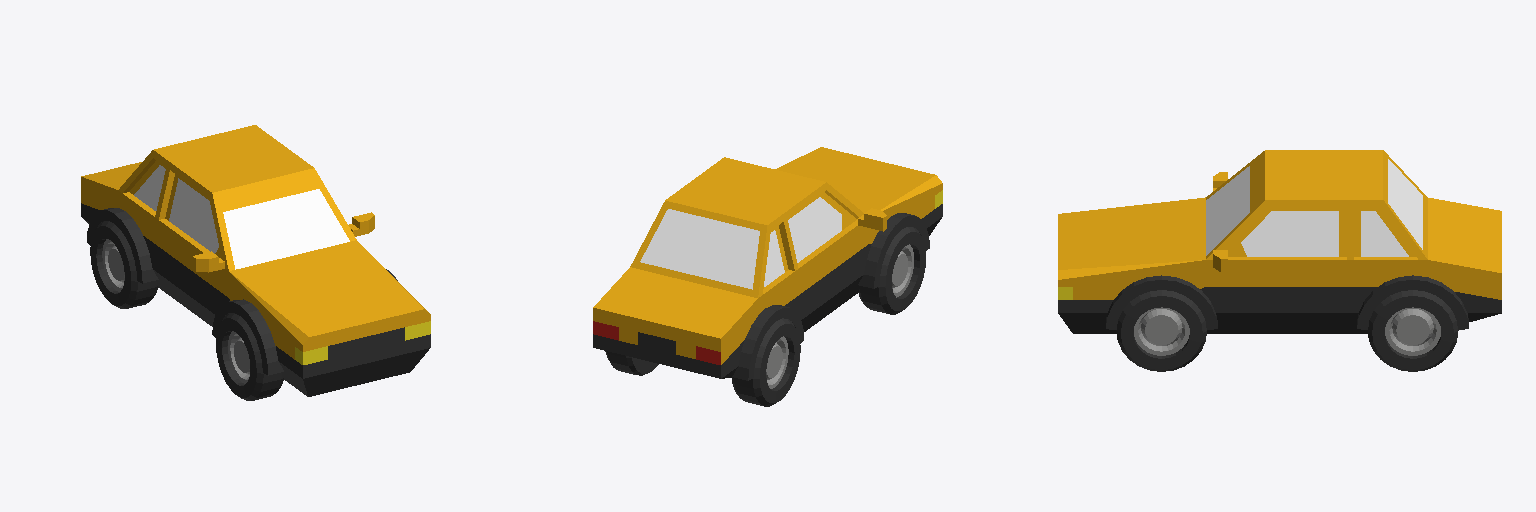
The model's file is car_long_yellow.obj.
3 views of the same model, side by side, from view 1: azimuth 30°, elevation 25°; view 2: azimuth 150°, elevation 25°; view 3: azimuth 270°, elevation 25° (orthographic).
Visible parts, largest first — view 1: mergedBlocks; view 2: mergedBlocks; view 3: mergedBlocks.
Boxes of the visible parts, x1,y1,x2,y2 form: mergedBlocks: [81, 125, 430, 400]; mergedBlocks: [593, 147, 942, 406]; mergedBlocks: [1058, 150, 1501, 371].
Bounding box in the file's own units: 1.4 × 1.21 × 3.